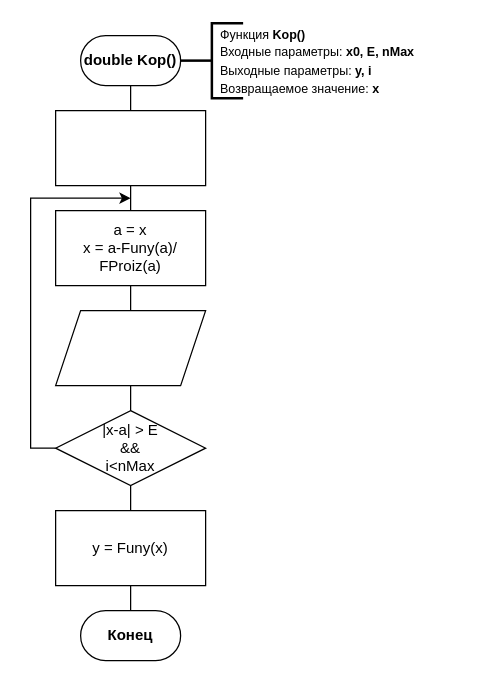
The diagram is 478 pixels wide and 683 high, and some of its shapes have lost their labels. The box of each missing label's shape, as (x1, y1, x2, y2) in pixels:
i = 0 x = x0: (54, 109, 206, 186)
Вывод i, x: (54, 309, 206, 386)
